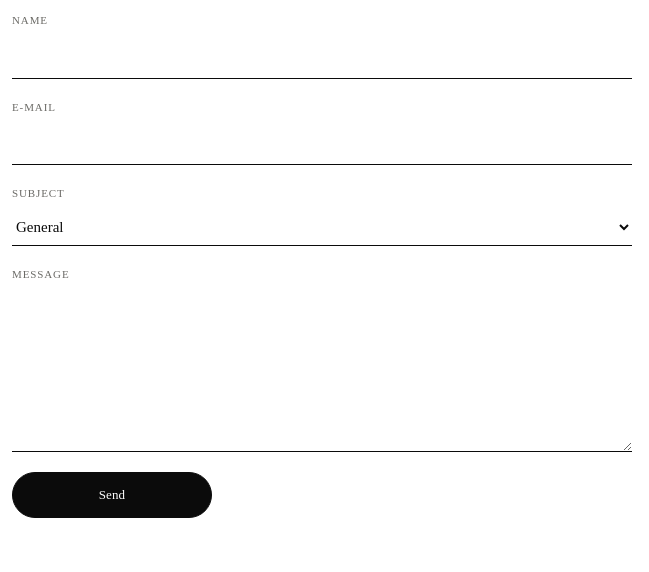
Test case: ContactForm › says it is not connected yet while the API base is unset
In the field labelled "Name": (322, 57) x1=12 y1=36 x2=632 y2=79, type "A. Person"
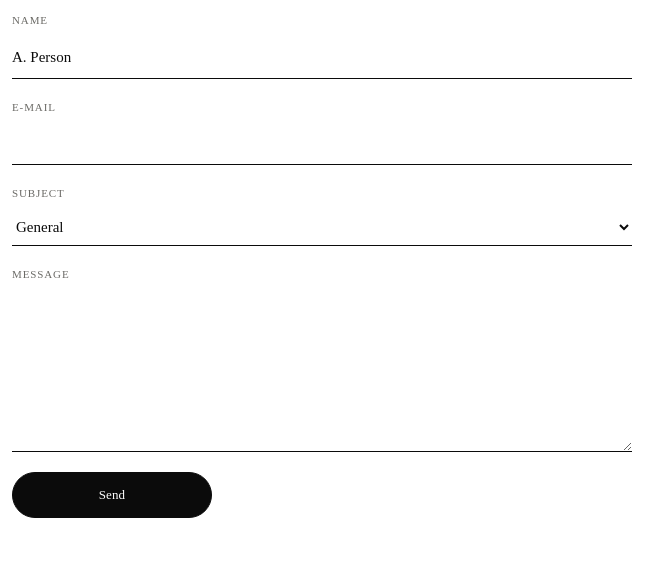
In the field labelled "E-mail": (322, 144) x1=12 y1=122 x2=632 y2=165, type "a@example.com"
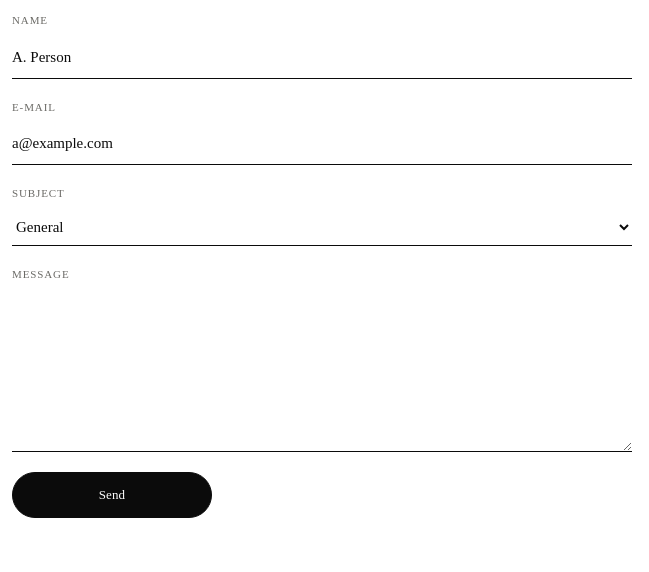
In the text box labelled "Message": (322, 371) x1=12 y1=289 x2=632 y2=452, type "Hello there."
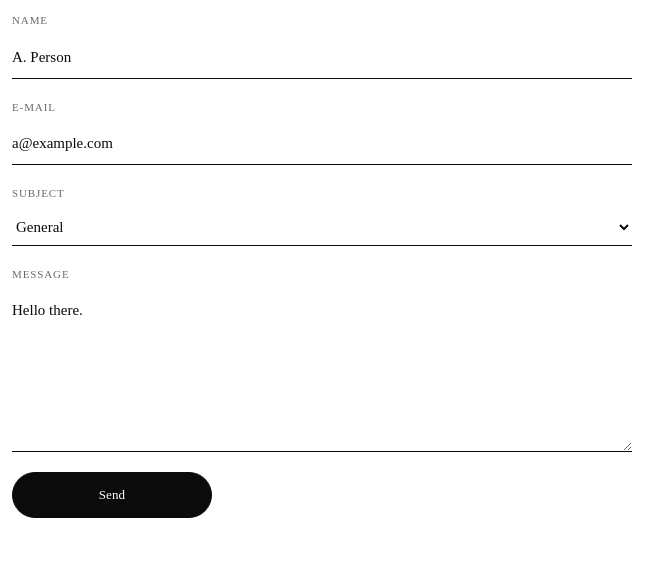
Click the button "Send": (112, 495) x1=12 y1=472 x2=212 y2=518
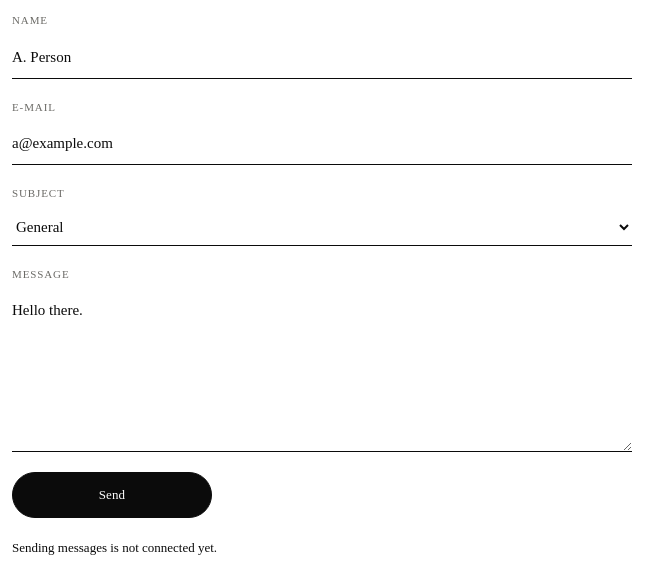
Result: the text "Sending messages is not connected yet." is shown at x1=12 y1=540 x2=217 y2=555
